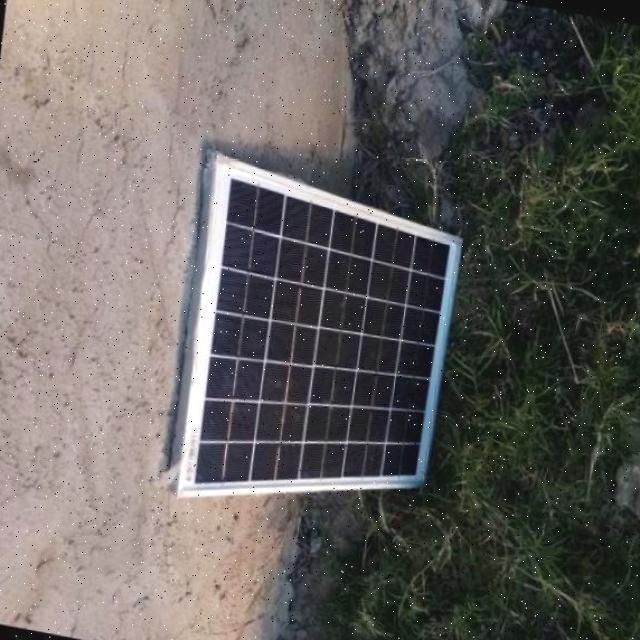Normal Solar Panel: (171, 149, 469, 539)
